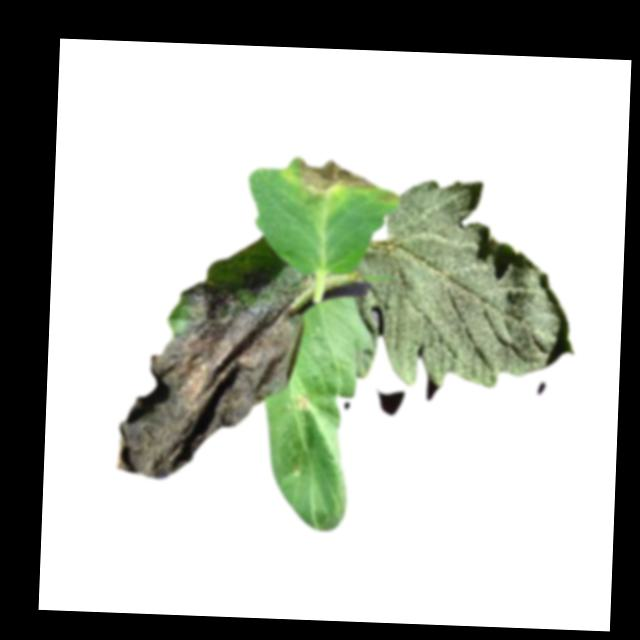Late_blight: (117, 260, 308, 487), (294, 156, 383, 199), (293, 394, 316, 418)
